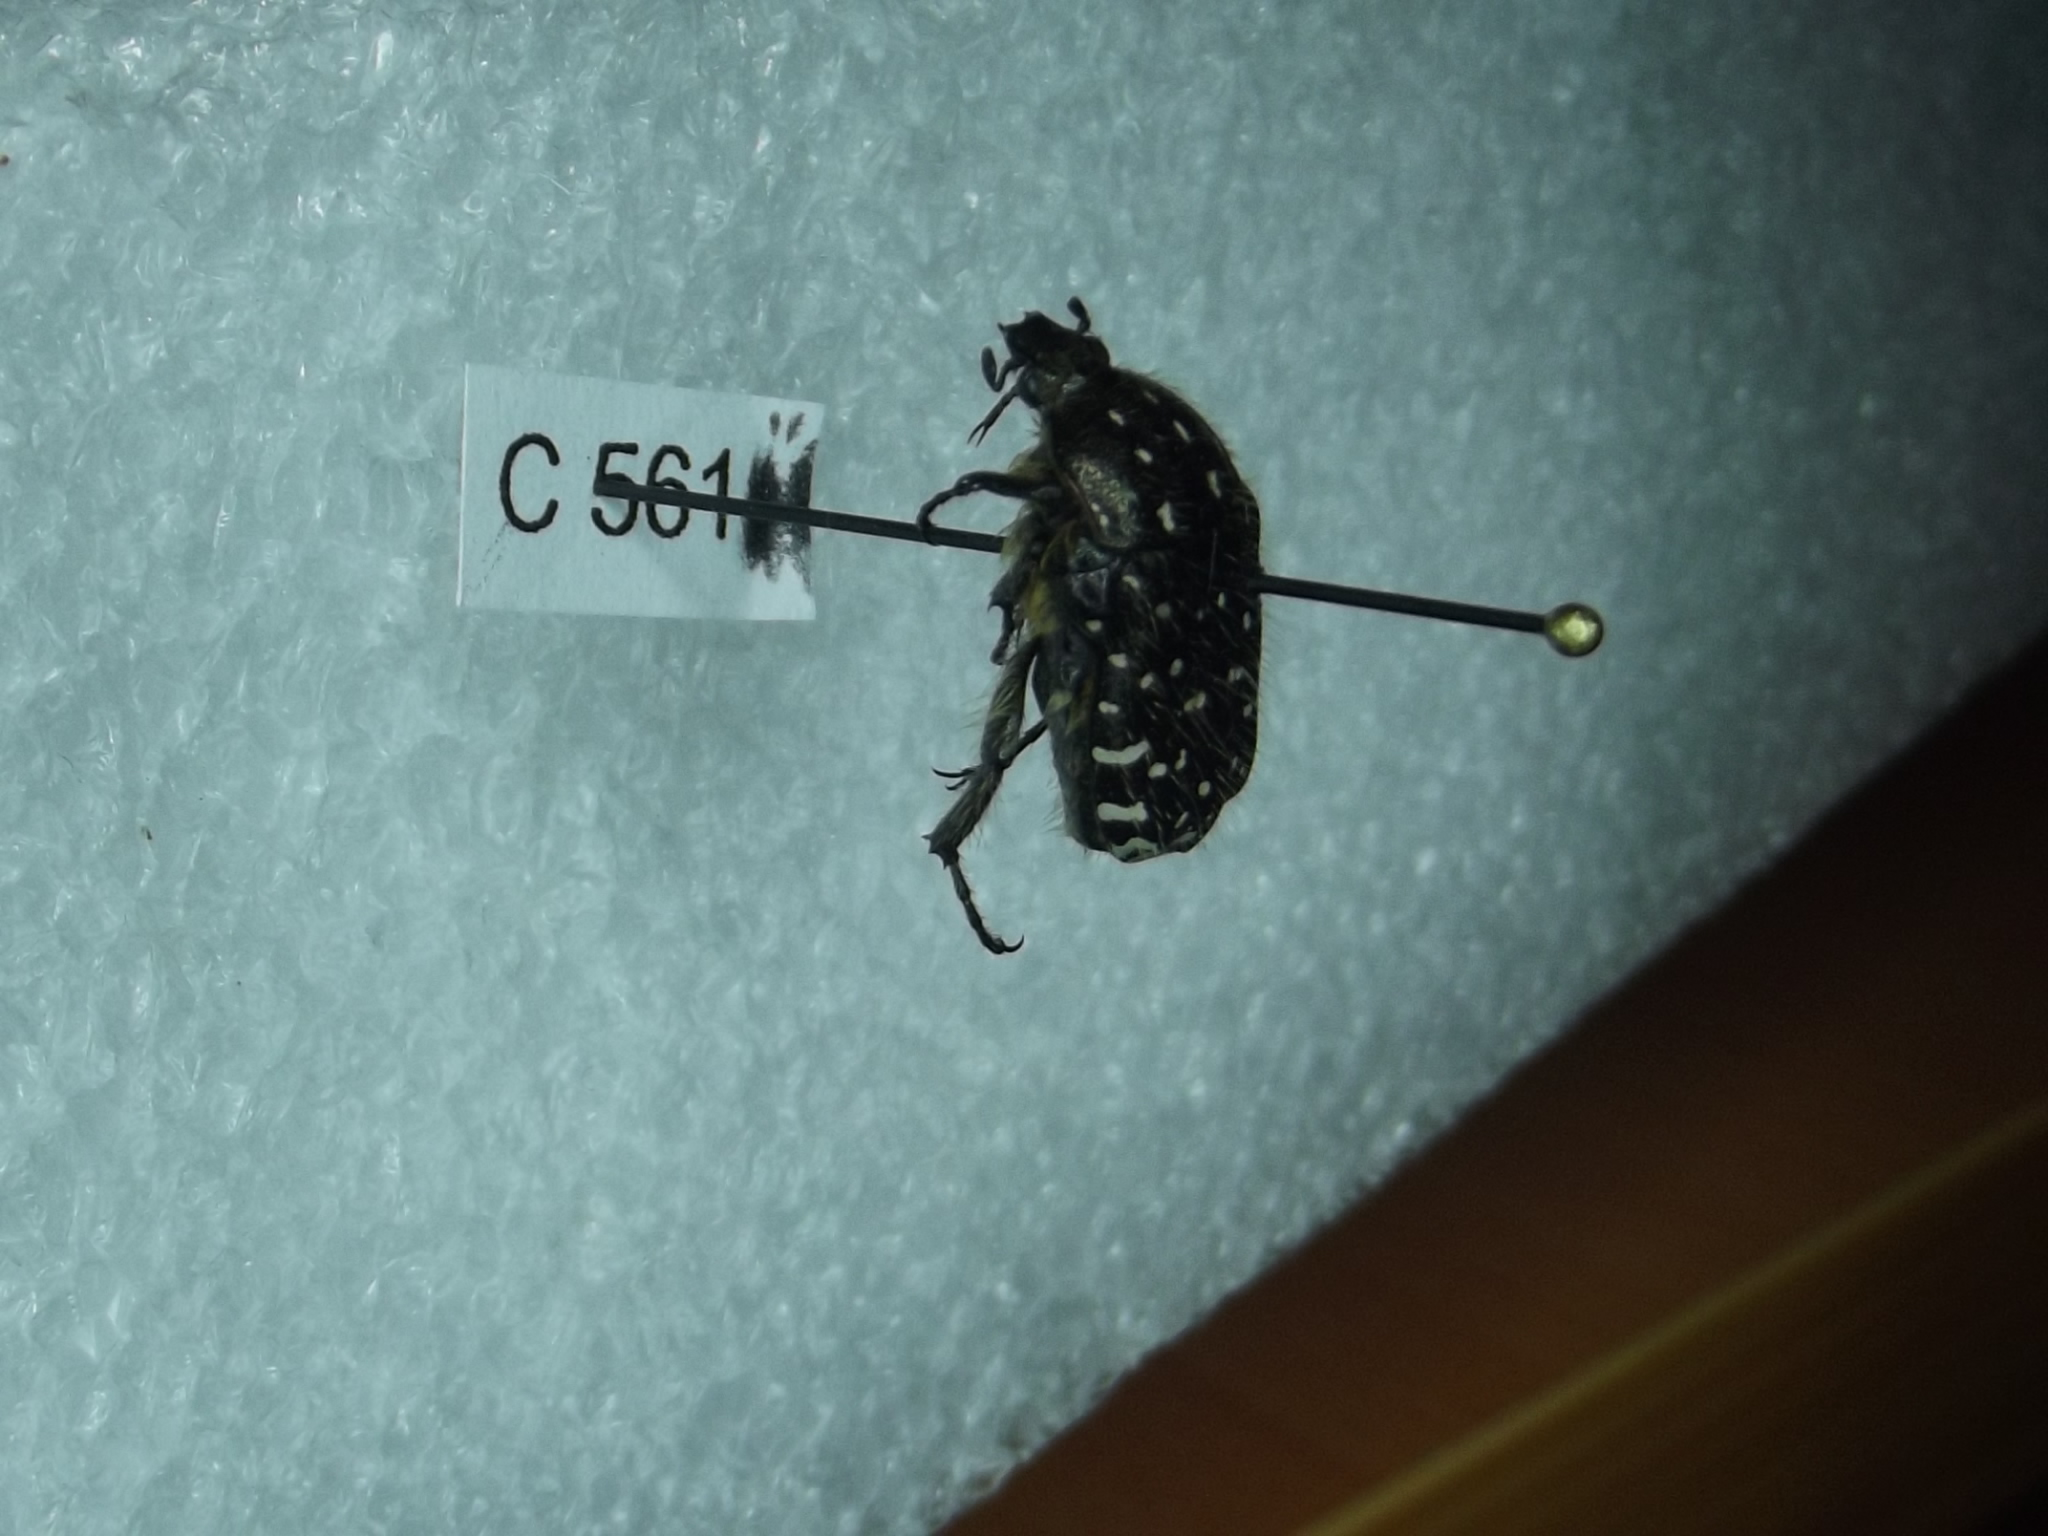Oxythyrea_funesta: (922, 269, 1285, 968)
